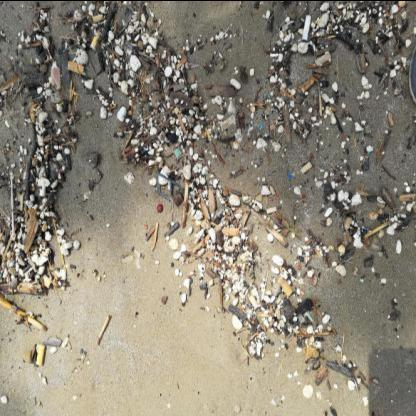Cigarette: (90, 29, 102, 50), (10, 178, 14, 235), (68, 60, 84, 74), (36, 344, 45, 364), (39, 176, 45, 197), (92, 14, 103, 22)
Other plastic: (302, 14, 311, 40), (51, 66, 61, 88), (174, 147, 182, 159), (305, 312, 313, 322), (110, 25, 113, 31), (300, 290, 304, 294), (289, 174, 292, 178), (260, 126, 262, 130), (144, 149, 146, 153), (192, 118, 194, 121)
Unlabeled litter: (154, 172, 180, 200)
